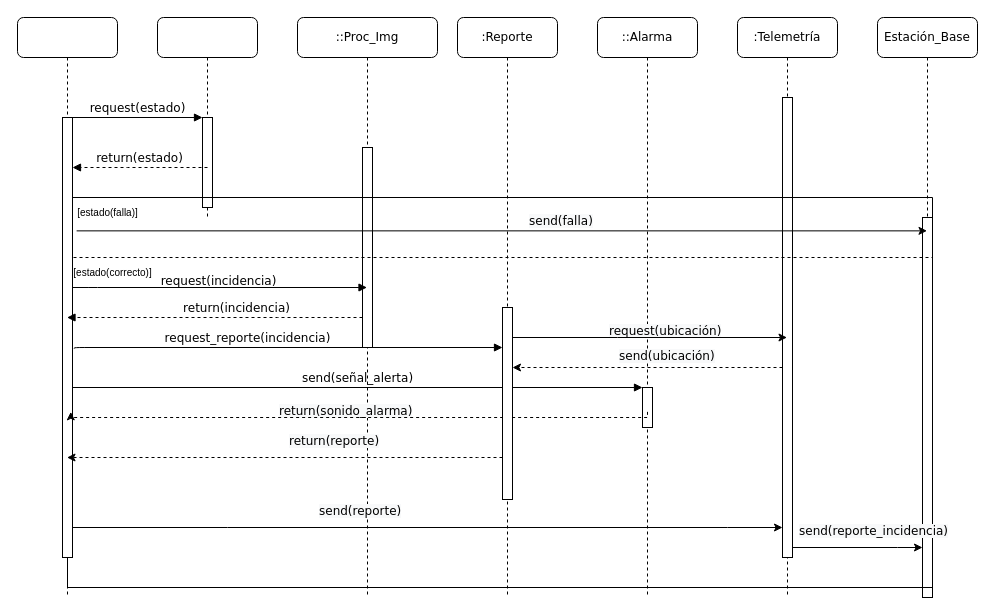
The diagram is 995 pixels wide and 615 high, and some of its shapes have lost their labels. Here are the shapes that lost their labels. From the top down, the box of each, then its label:
(156, 16, 258, 218): ::Perifericos
(16, 16, 118, 598): :Proc_central
